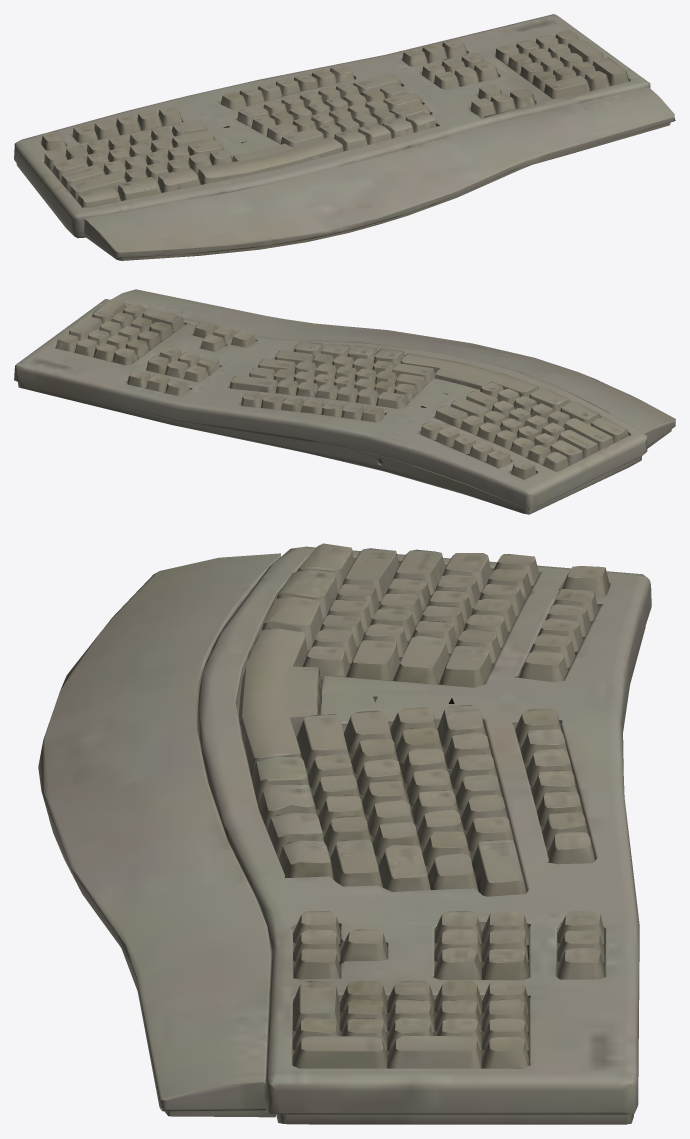
The model's file is SM_ComputerKeyboard_A01_N1.glb.
3 views of the same model, one above another, from view 1: azimuth 30°, elevation 25°; view 2: azimuth 150°, elevation 25°; view 3: azimuth 270°, elevation 25° (orthographic). The views are drawn at different scales.
Parts seen in each view (by area): view 1: SM_ComputerKeyboard_A01_N1; view 2: SM_ComputerKeyboard_A01_N1; view 3: SM_ComputerKeyboard_A01_N1.
Boxes of the visible parts, <box> form: SM_ComputerKeyboard_A01_N1: <box>14,14,675,260</box>; SM_ComputerKeyboard_A01_N1: <box>14,289,675,514</box>; SM_ComputerKeyboard_A01_N1: <box>38,543,651,1124</box>.
Size of the model in its own units: 0.5002 by 0.0389 by 0.2414.
Materials: 1 (1 with a texture image).
